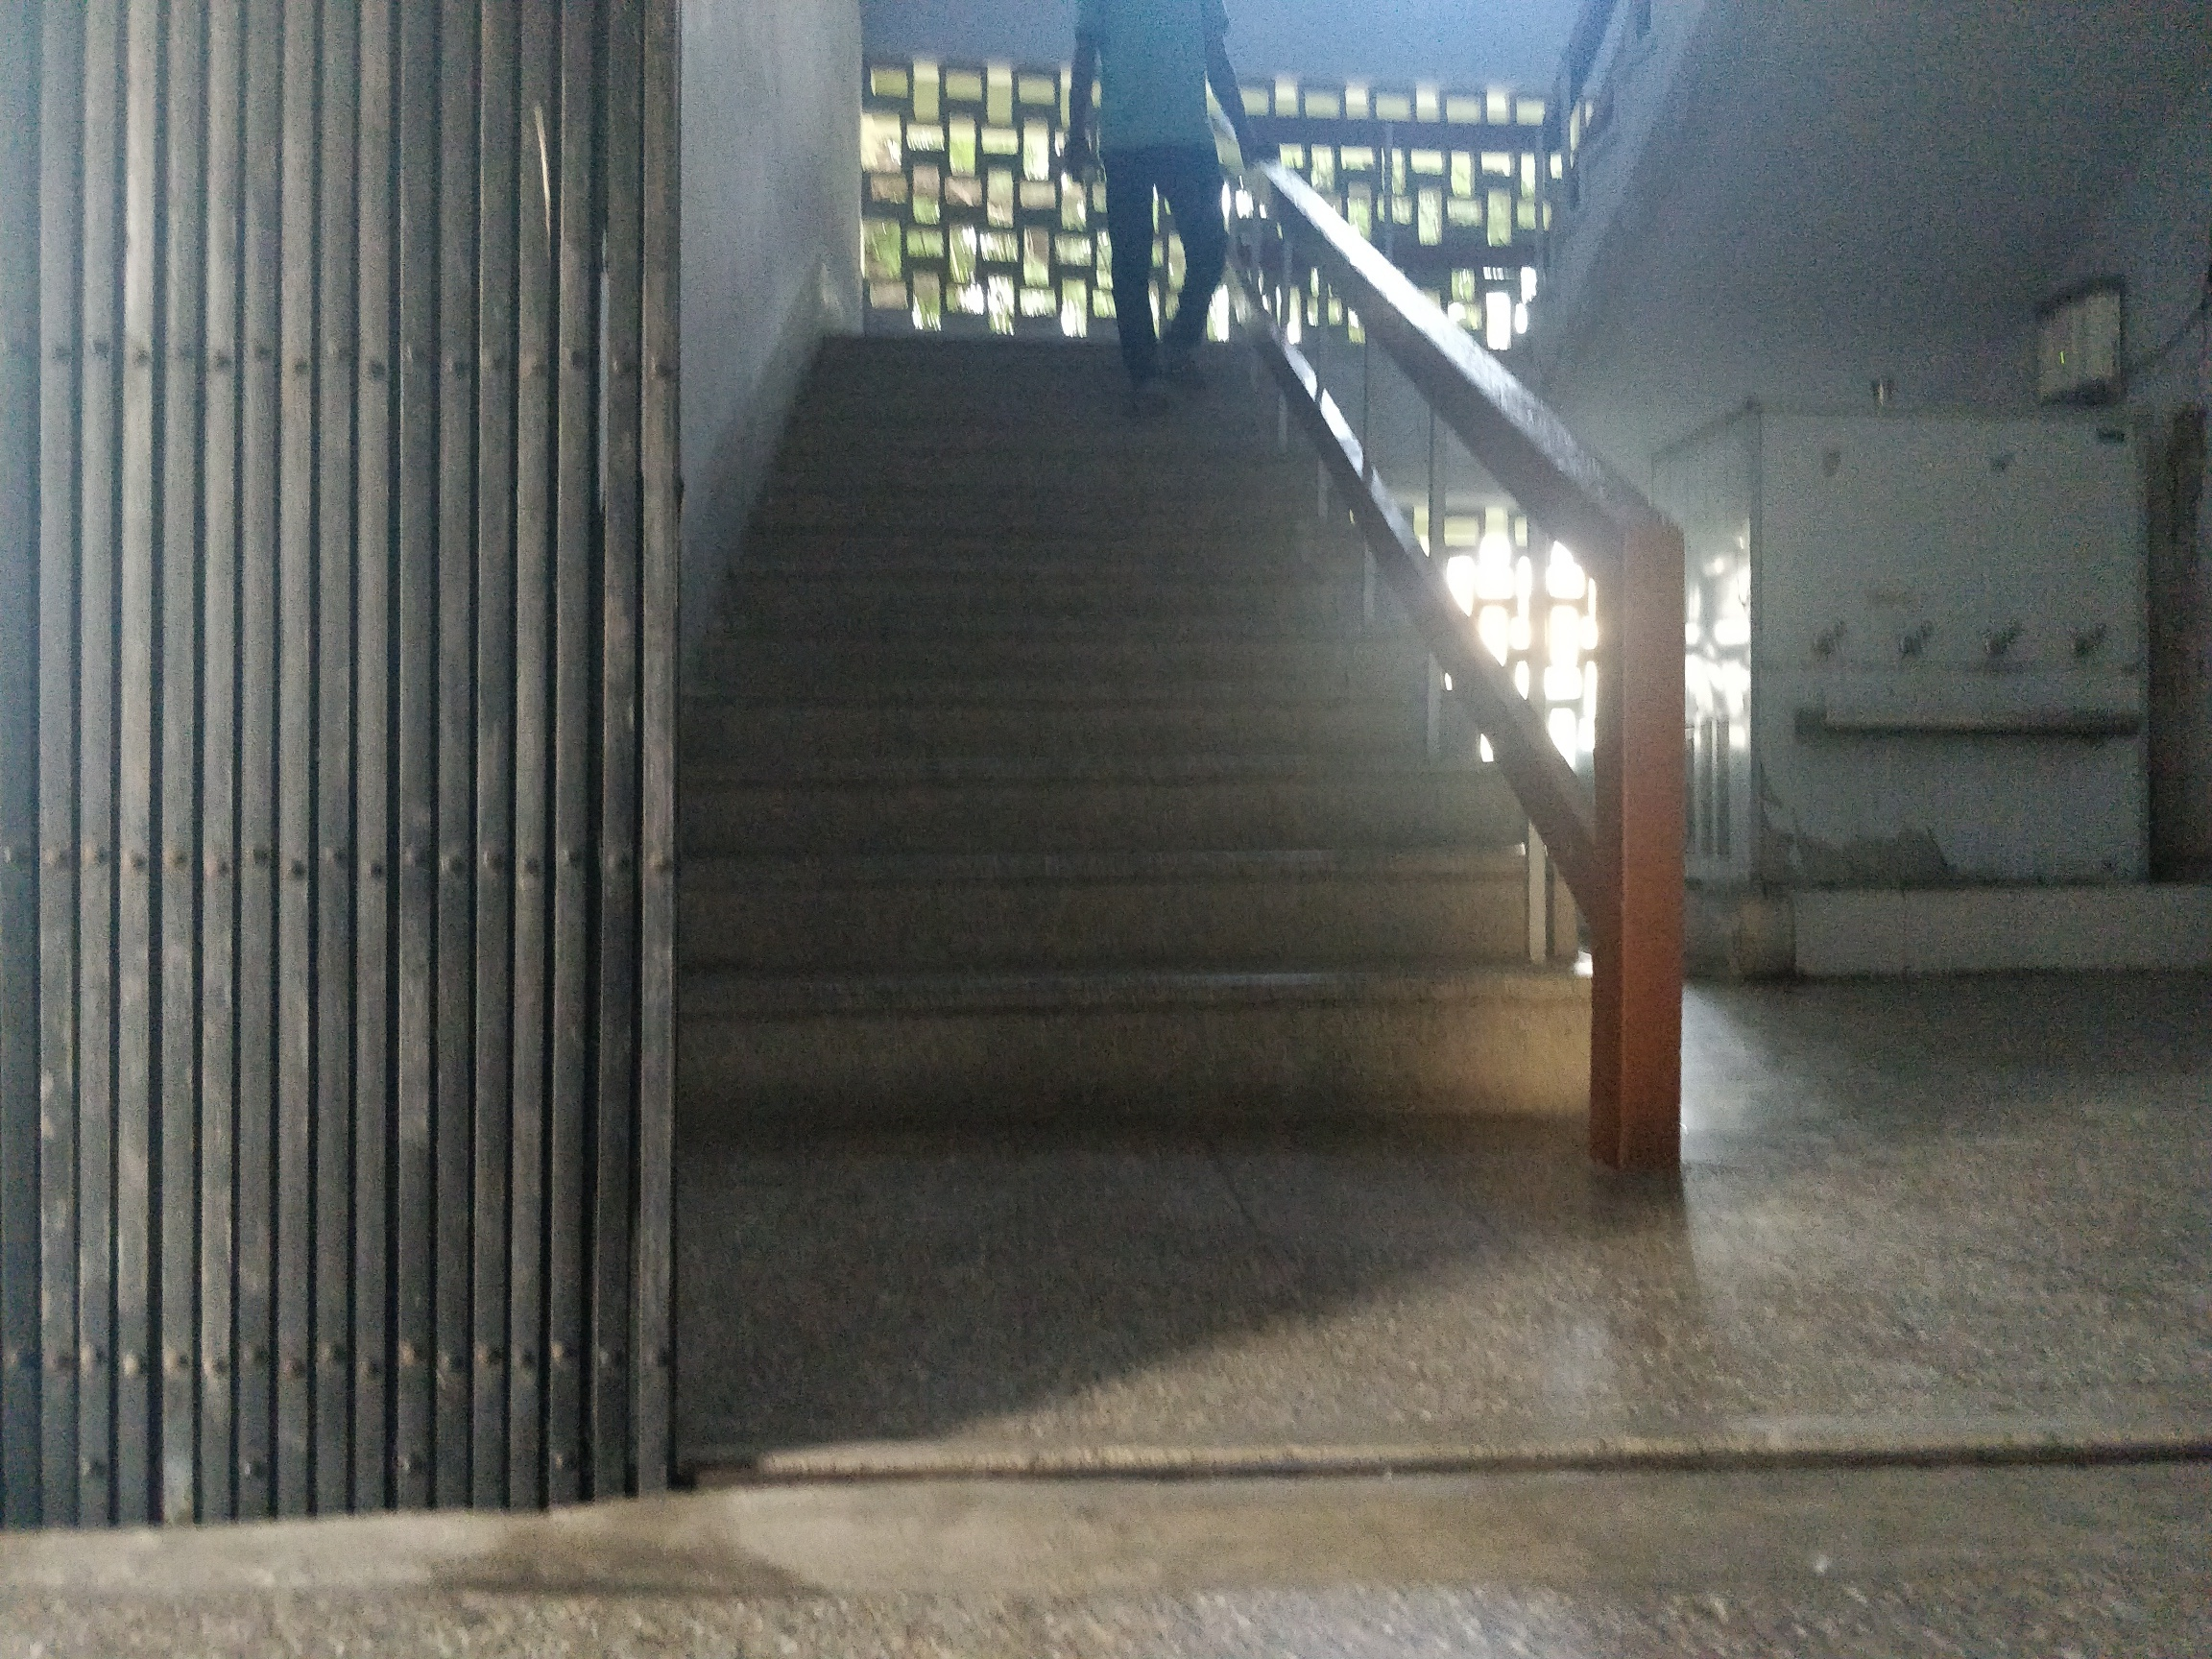stairs_up: (686, 349, 1548, 1166)
